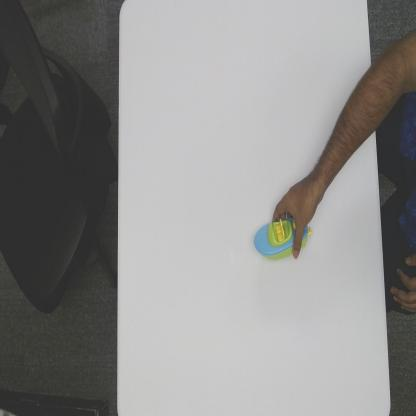Arm: (318, 68, 374, 192)
Boat: (253, 218, 314, 262)
Hand: (272, 179, 320, 262)
